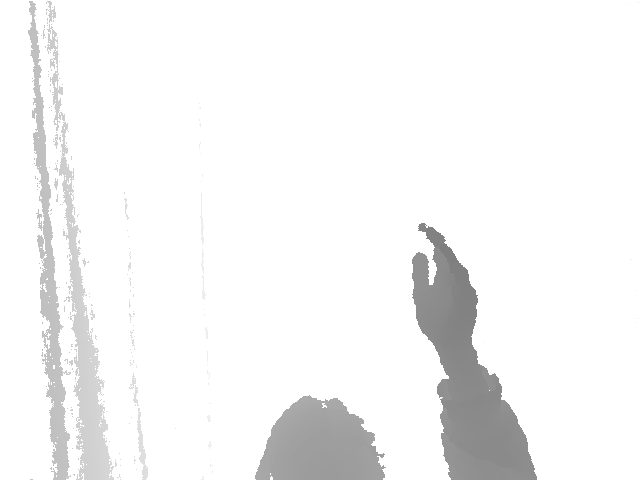hand: (412, 223, 478, 367)
head: (256, 393, 386, 480)
person: (254, 224, 539, 480)
